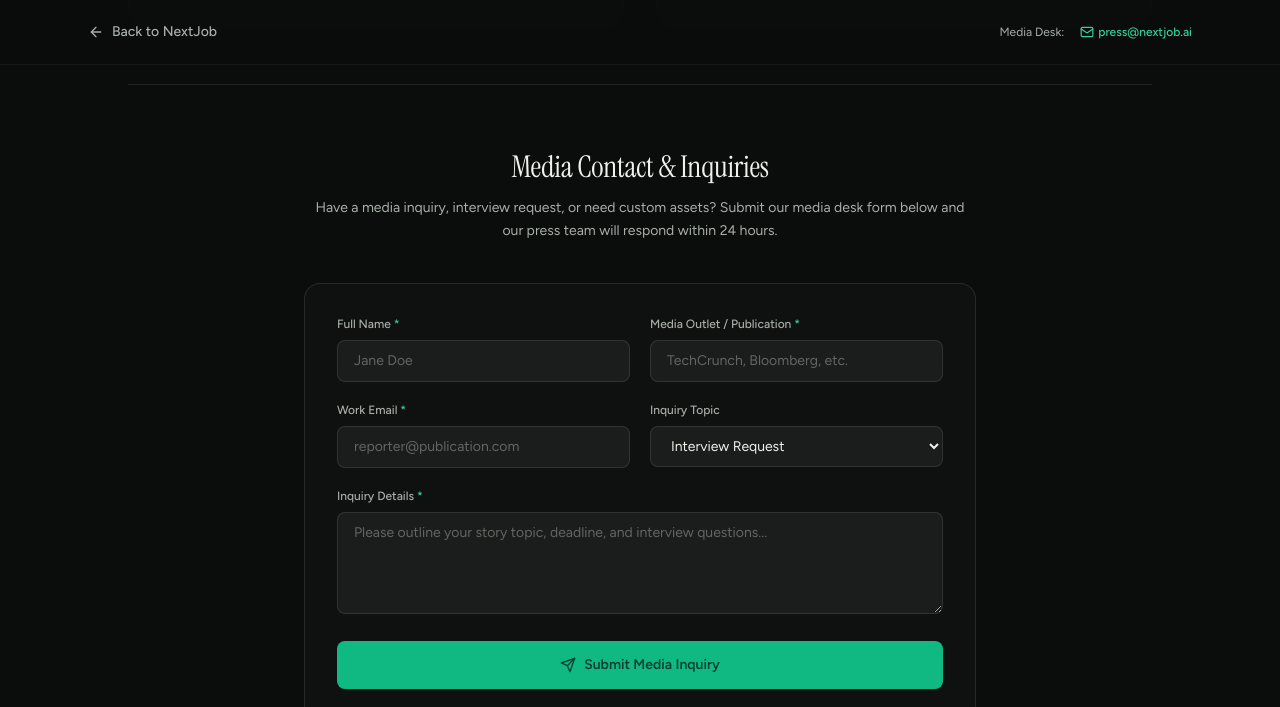
it: PressKitPage (T-104, FR-GROW-07) › shows error alert if email address is invalid
(page scrolled)
Step 1. Type "Alex Morgan" into the field labelled "Full Name *" → (484, 360), box 337,340 -> 630,382
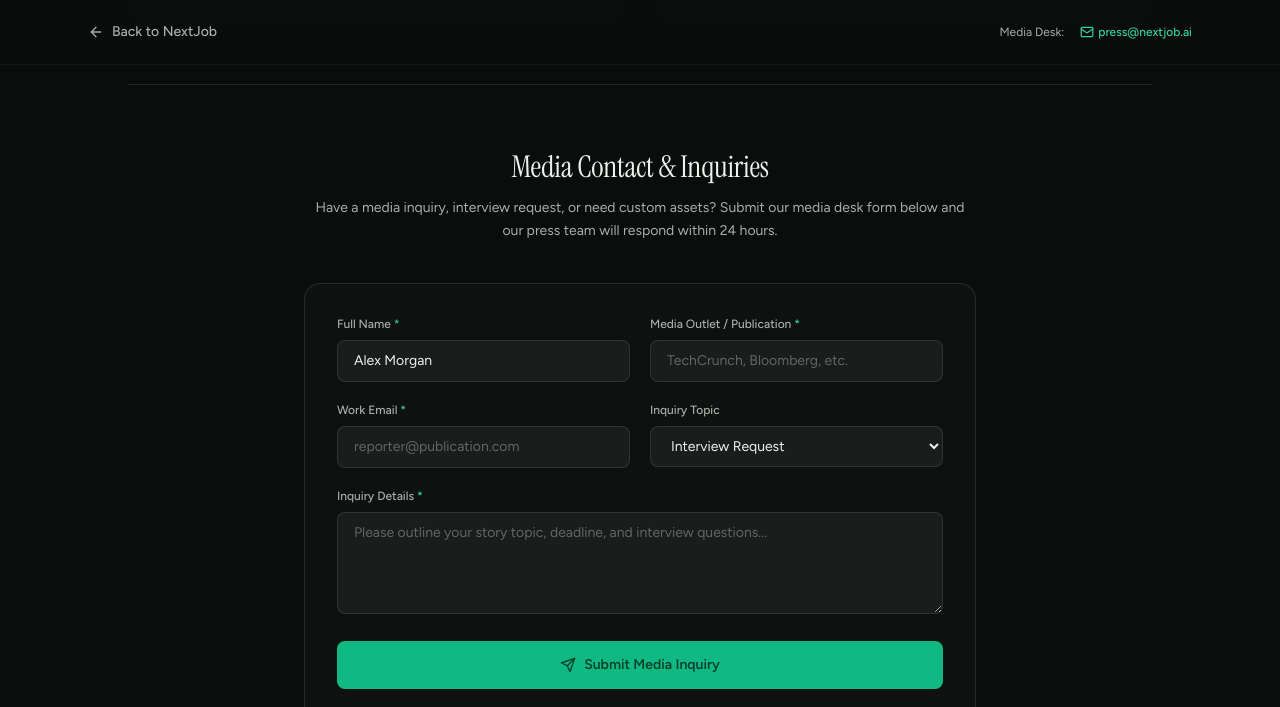
Step 2. Type "The Tech Journal" into the field labelled "Media Outlet / Publication *" → (796, 360), box 650,340 -> 943,382
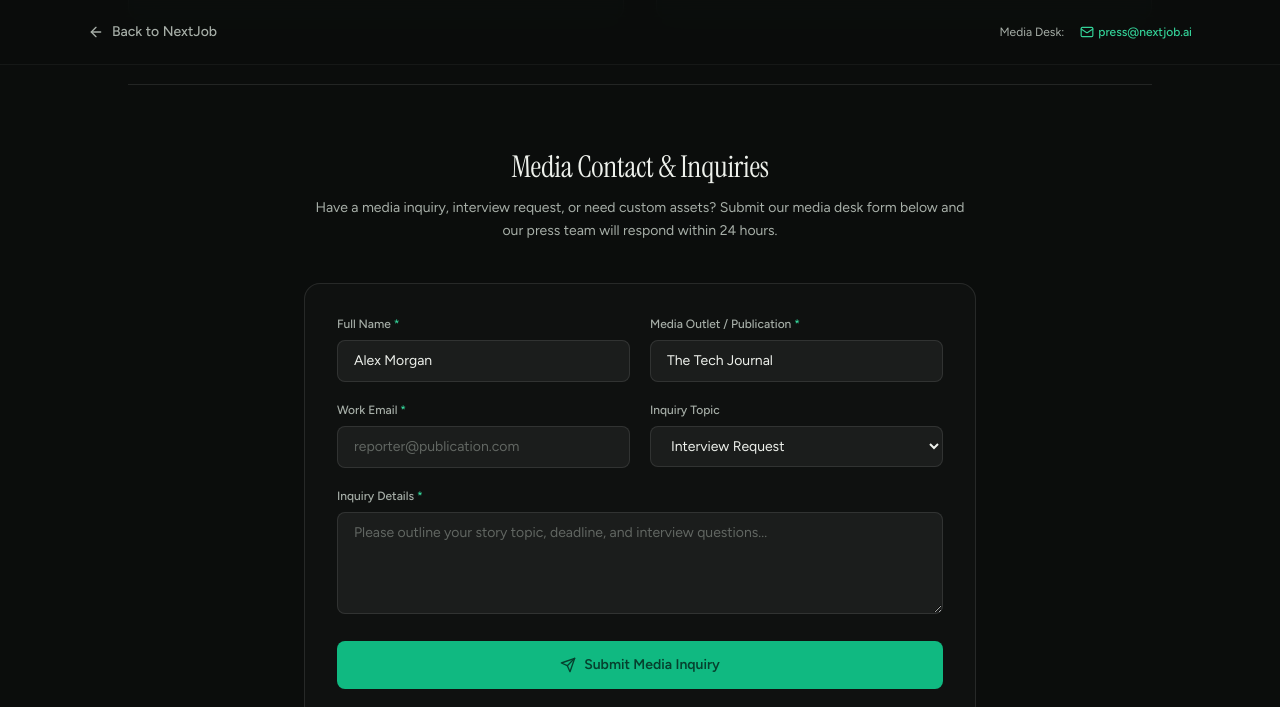
Step 3. Type "invalid-email" into the field labelled "Work Email *" → (484, 446), box 337,426 -> 630,468
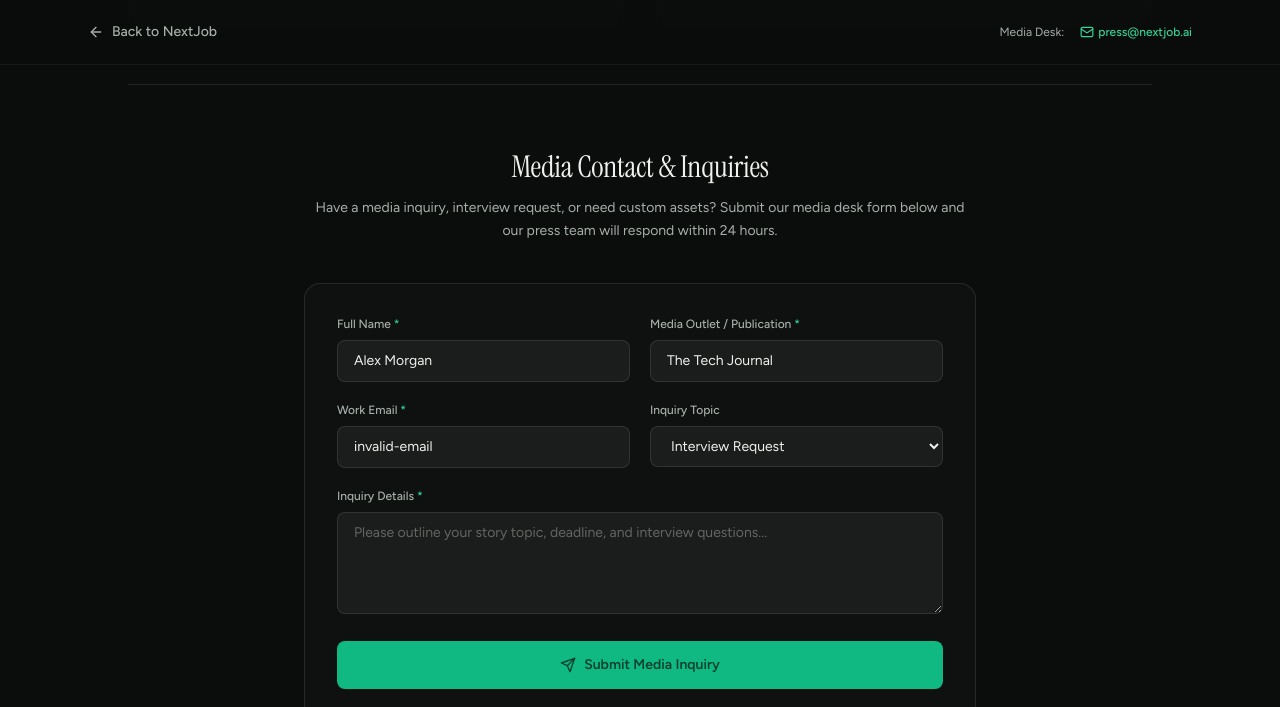
Step 4. Replace the text in the text box labelled "Inquiry Details *" with "Inquiry message." → (640, 562), box 337,512 -> 943,614
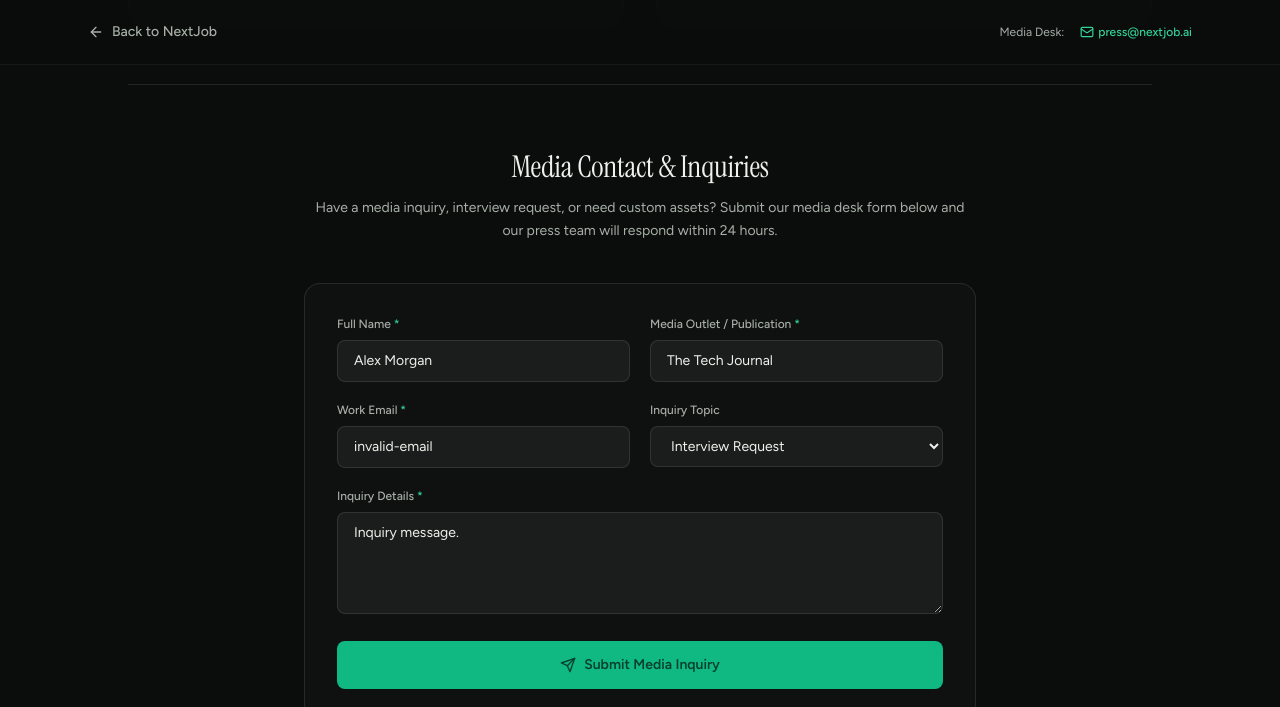
Step 5. Click the button "Submit Media Inquiry" → click(640, 664), box 337,640 -> 943,688
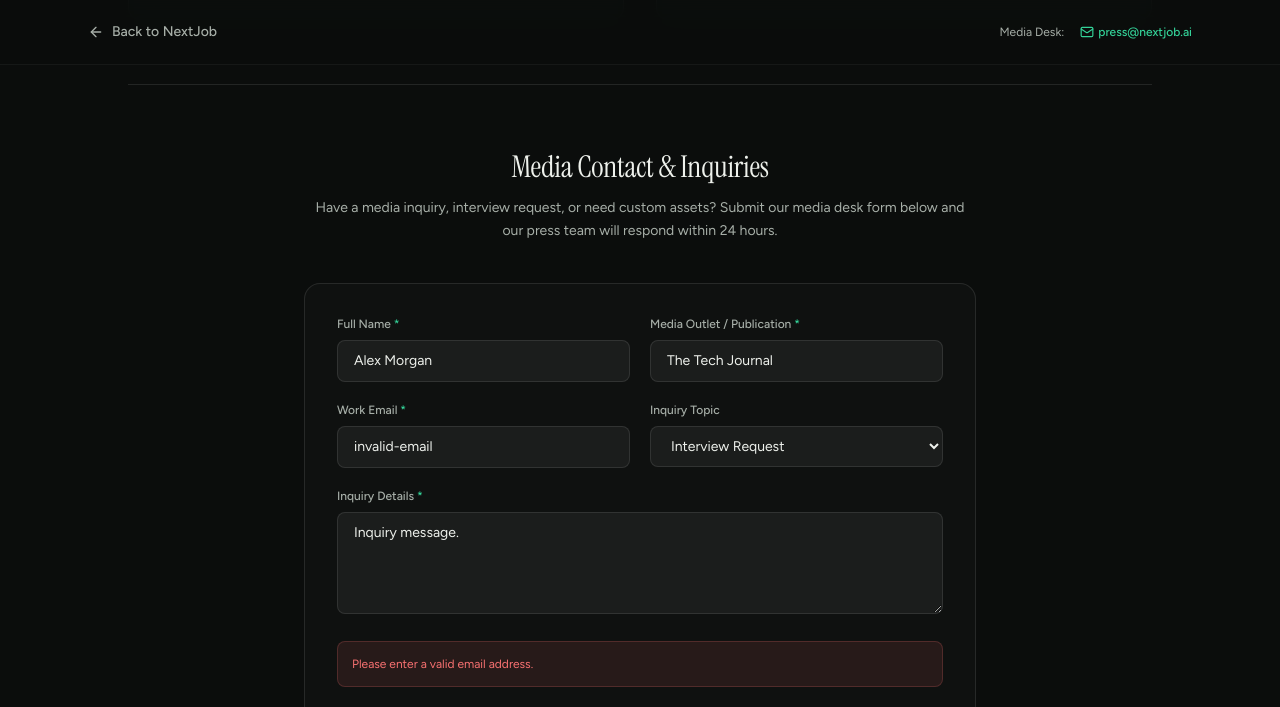
Check: the message reads "Please enter a valid email address.", box 352,656 -> 533,670
